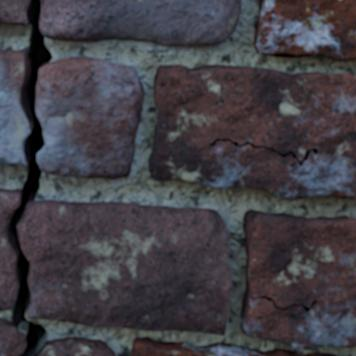brick: (149, 65, 355, 200), (241, 210, 355, 349), (254, 0, 355, 60), (132, 337, 334, 355)
broken_brick: (21, 199, 232, 336), (37, 56, 144, 179), (41, 0, 241, 46), (0, 48, 26, 164), (0, 188, 19, 311), (46, 336, 115, 355), (0, 317, 25, 355), (0, 0, 28, 25)
crack: (2, 0, 54, 355), (93, 348, 98, 355)
